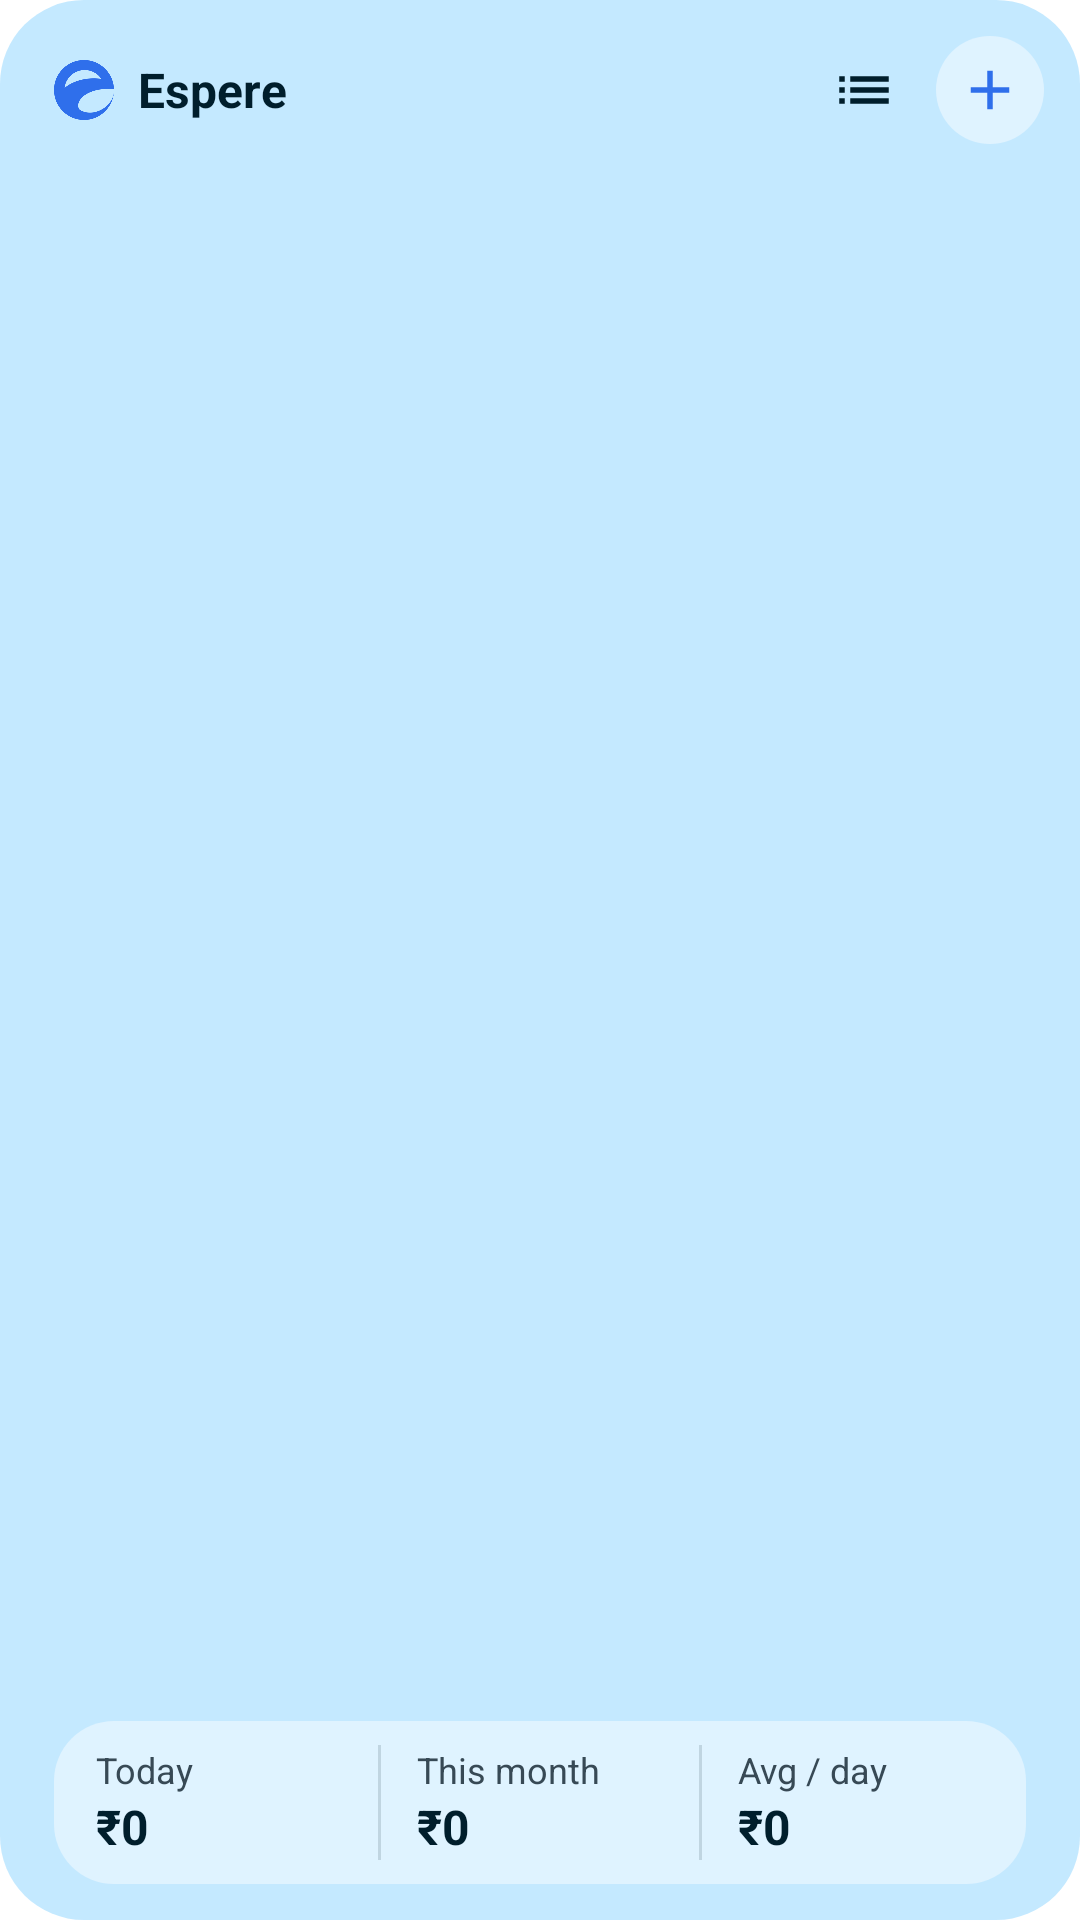

Point at icon controls on the screen. Image size 1080px×1920px, points as (x=x, y=y).
list: (x=864, y=90)
plus: (x=990, y=90)
